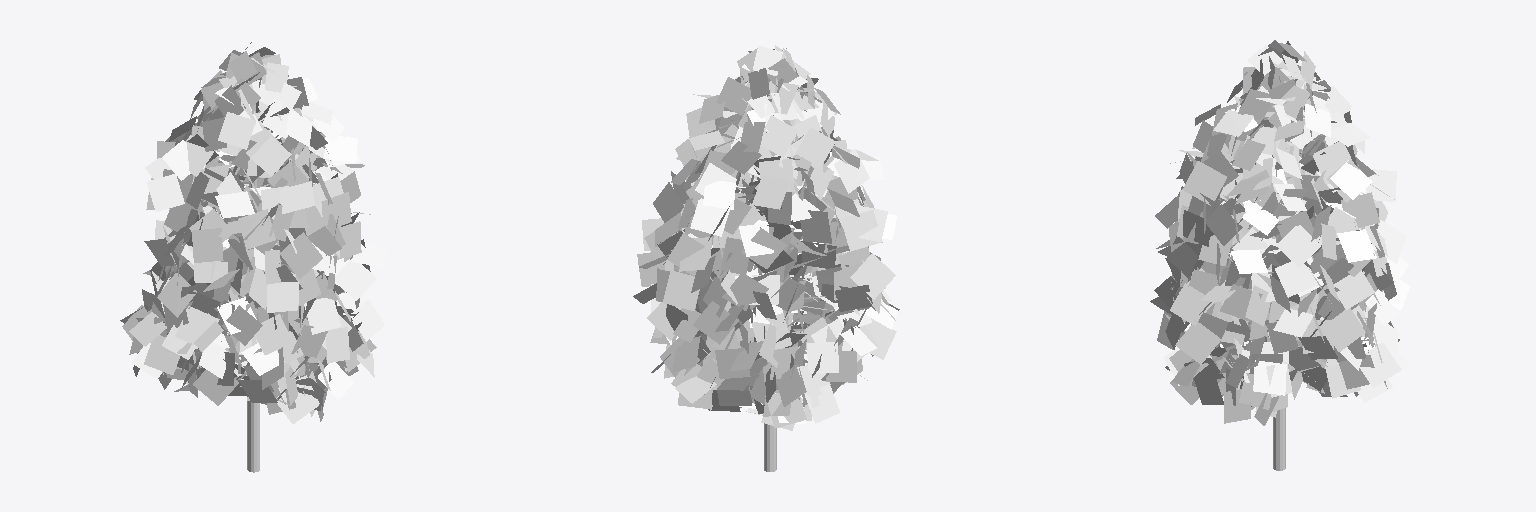
The model's file is Douglas_Fir_Model_0.obj.
The picture shows the model from 3 angles: view 1: azimuth 30°, elevation 25°; view 2: azimuth 150°, elevation 25°; view 3: azimuth 270°, elevation 25°; orthographic projection.
Visible parts, largest first — view 1: Foliage__leafcard, Bark; view 2: Foliage__leafcard, Bark; view 3: Foliage__leafcard, Bark.
Boxes of the visible parts, x1,y1,x2,y2 form: Foliage__leafcard: [120, 42, 385, 423]; Bark: [182, 77, 278, 472]; Foliage__leafcard: [633, 45, 899, 430]; Bark: [736, 95, 835, 471]; Foliage__leafcard: [1150, 40, 1409, 425]; Bark: [1234, 76, 1302, 470].
Bounding box in the file's own units: 33.62 × 60 × 33.31.